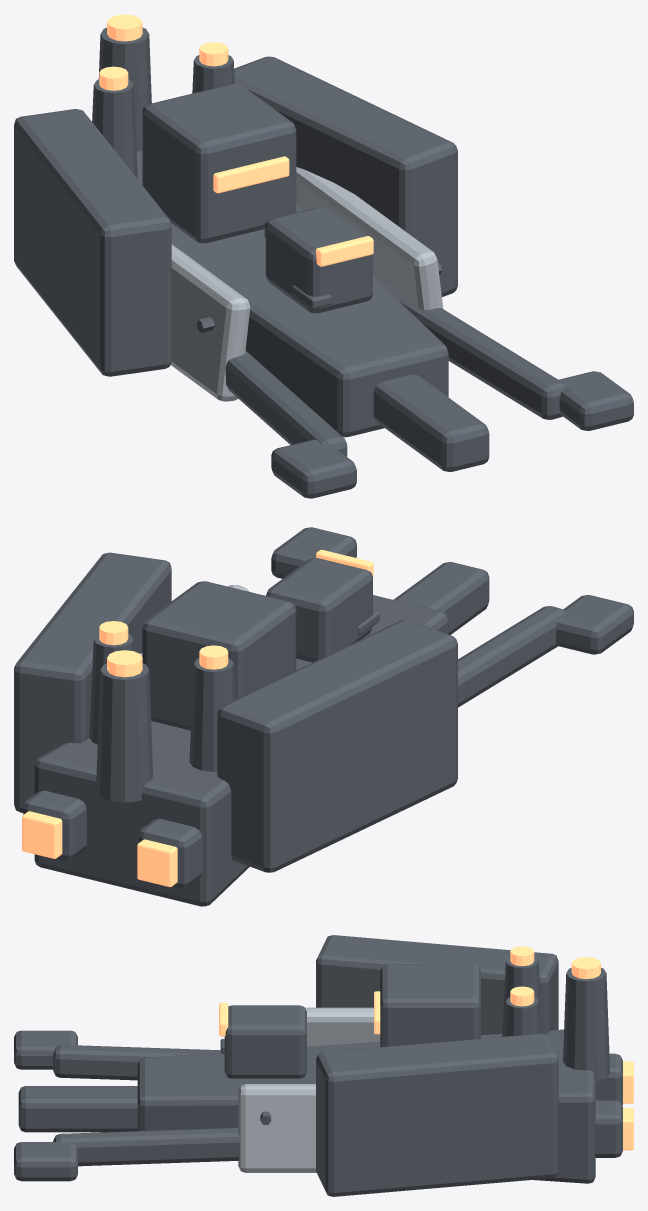
Rendered from aut_dreadnought.glb.
3 renders of one model, top to bottom at view 1: azimuth 30°, elevation 25°; view 2: azimuth 150°, elevation 25°; view 3: azimuth 270°, elevation 25°, orthographic. The views are drawn at different scales.
Parts seen in each view (by area): view 1: pauldron_1, slab, pauldron_-1, turret, plate_1, turret2, prow, plate_-1, claw_-1, claw_1, claw_tip_1, claw_tip_-1 (+6 smaller); view 2: pauldron_1, slab, pauldron_-1, turret, turret2, stack_c, claw_1, prow, claw_tip_1, stack_1, claw_tip_-1, vent_1 (+8 smaller); view 3: pauldron_-1, slab, pauldron_1, turret, plate_-1, turret2, claw_-1, prow, stack_c, claw_1, plate_1, claw_tip_-1 (+10 smaller).
Part boxes in pixels (x1=…): pauldron_1: x1=14, y1=109, x2=171, y2=376; slab: x1=136, y1=150, x2=448, y2=437; pauldron_-1: x1=234, y1=56, x2=457, y2=296; turret: x1=142, y1=83, x2=296, y2=243; plate_1: x1=170, y1=244, x2=250, y2=401; turret2: x1=265, y1=207, x2=372, y2=313; prow: x1=373, y1=374, x2=489, y2=471; plate_-1: x1=296, y1=167, x2=443, y2=309; claw_-1: x1=373, y1=275, x2=565, y2=419; claw_1: x1=225, y1=351, x2=347, y2=456; claw_tip_1: x1=271, y1=439, x2=356, y2=498; claw_tip_-1: x1=559, y1=371, x2=633, y2=430; pauldron_1: x1=217, y1=619, x2=457, y2=872; slab: x1=34, y1=595, x2=448, y2=906; pauldron_-1: x1=14, y1=552, x2=171, y2=812; turret: x1=142, y1=581, x2=296, y2=730; turret2: x1=266, y1=558, x2=372, y2=662; stack_c: x1=96, y1=663, x2=153, y2=802; claw_1: x1=458, y1=606, x2=565, y2=707; prow: x1=393, y1=562, x2=489, y2=634; claw_tip_1: x1=556, y1=595, x2=633, y2=654; stack_1: x1=189, y1=658, x2=235, y2=771; claw_tip_-1: x1=271, y1=527, x2=356, y2=578; vent_1: x1=139, y1=818, x2=202, y2=888; pauldron_-1: x1=316, y1=1033, x2=558, y2=1196; slab: x1=137, y1=1029, x2=595, y2=1183; pauldron_1: x1=316, y1=935, x2=558, y2=1034; turret: x1=380, y1=964, x2=480, y2=1047; plate_-1: x1=238, y1=1084, x2=316, y2=1172; turret2: x1=224, y1=1005, x2=306, y2=1078; claw_-1: x1=53, y1=1128, x2=240, y2=1166; prow: x1=18, y1=1086, x2=137, y2=1132; stack_c: x1=563, y1=967, x2=610, y2=1081; claw_1: x1=53, y1=1045, x2=220, y2=1080; plate_1: x1=305, y1=1007, x2=380, y2=1046; claw_tip_-1: x1=14, y1=1142, x2=77, y2=1181.
Size of the model in its own units: 0.2402 by 0.1473 by 0.44.
